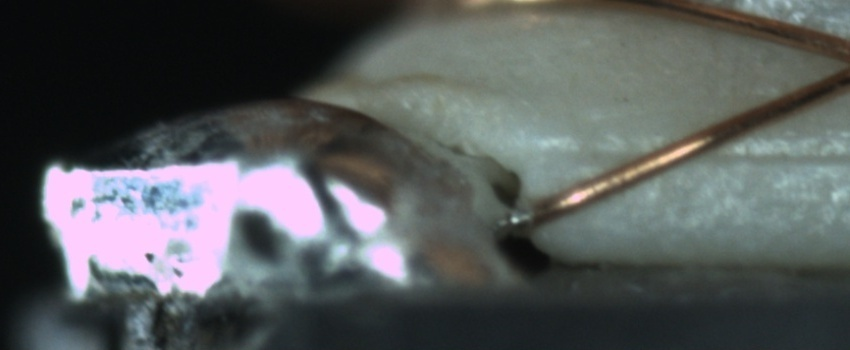DL: (548, 123, 850, 185)
TS: (500, 203, 534, 233)
